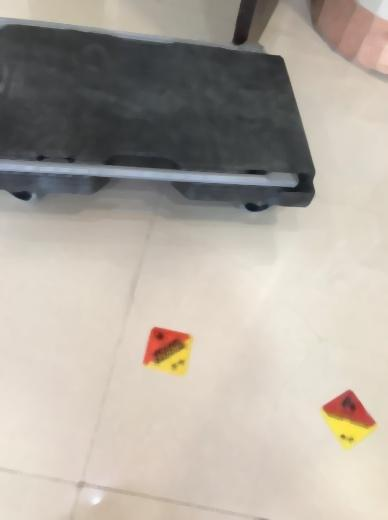organic-peroxide: (318, 388, 379, 452), (143, 326, 193, 376)
